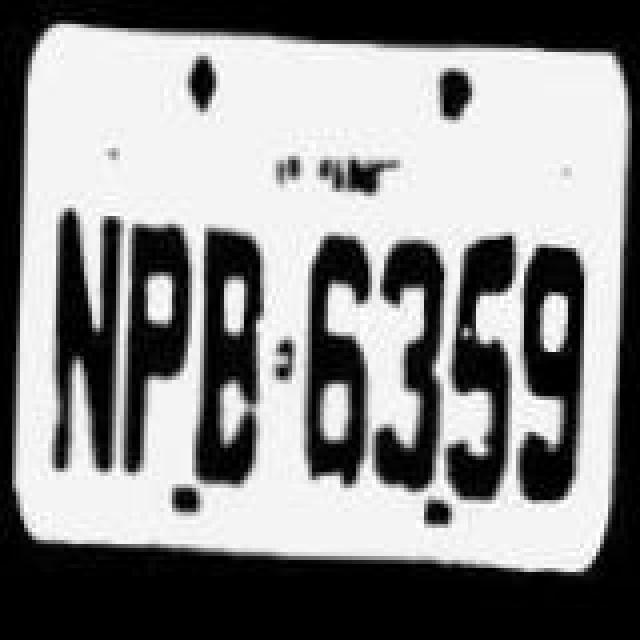3: (374, 232, 450, 496)
5: (446, 234, 522, 510)
6: (296, 232, 384, 484)
9: (512, 250, 592, 502)
B: (192, 222, 280, 482)
N: (42, 198, 126, 482)
P: (120, 220, 200, 480)
